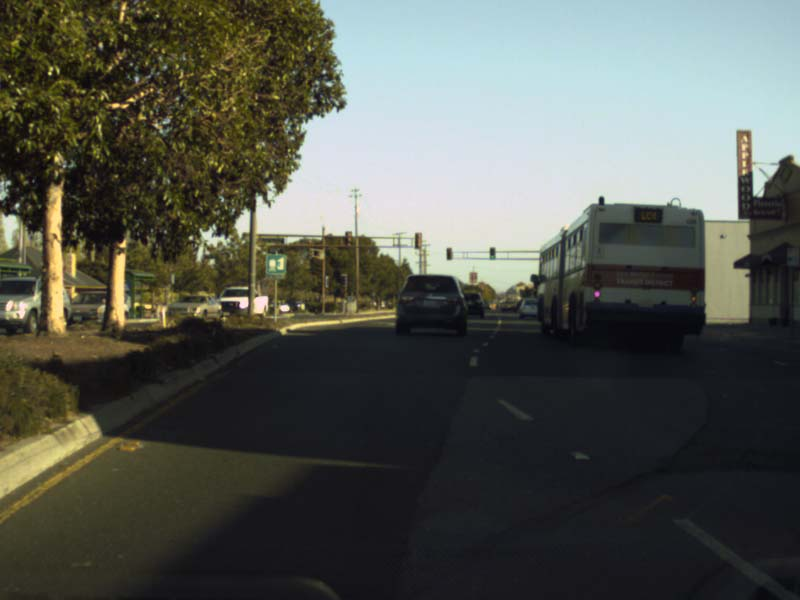Green: (489, 247, 495, 260)
